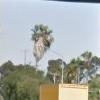Palm tree: (23, 16, 53, 75)
